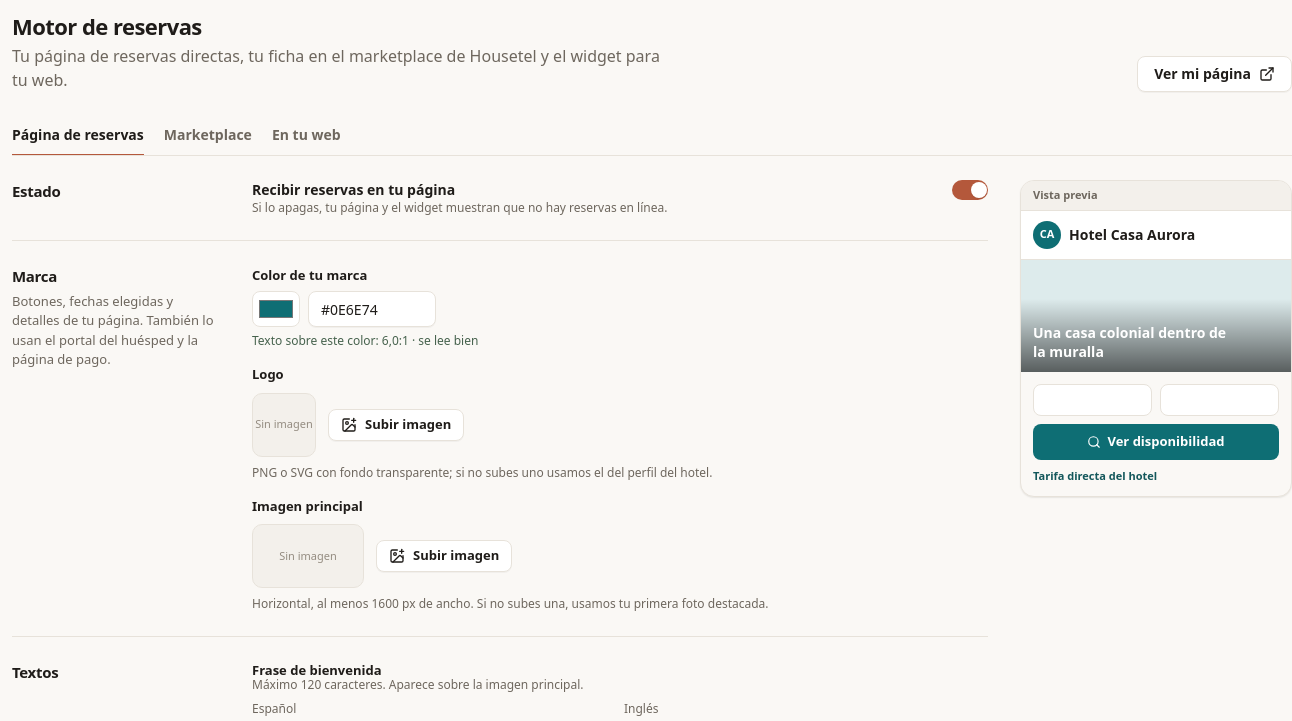
Test case: BookingEngineSettingsPage › warns when the brand color is hard to read
Replace the text in the field named "Código del color" with "#F2C94C": x=372, y=309 [308, 291, 436, 327]
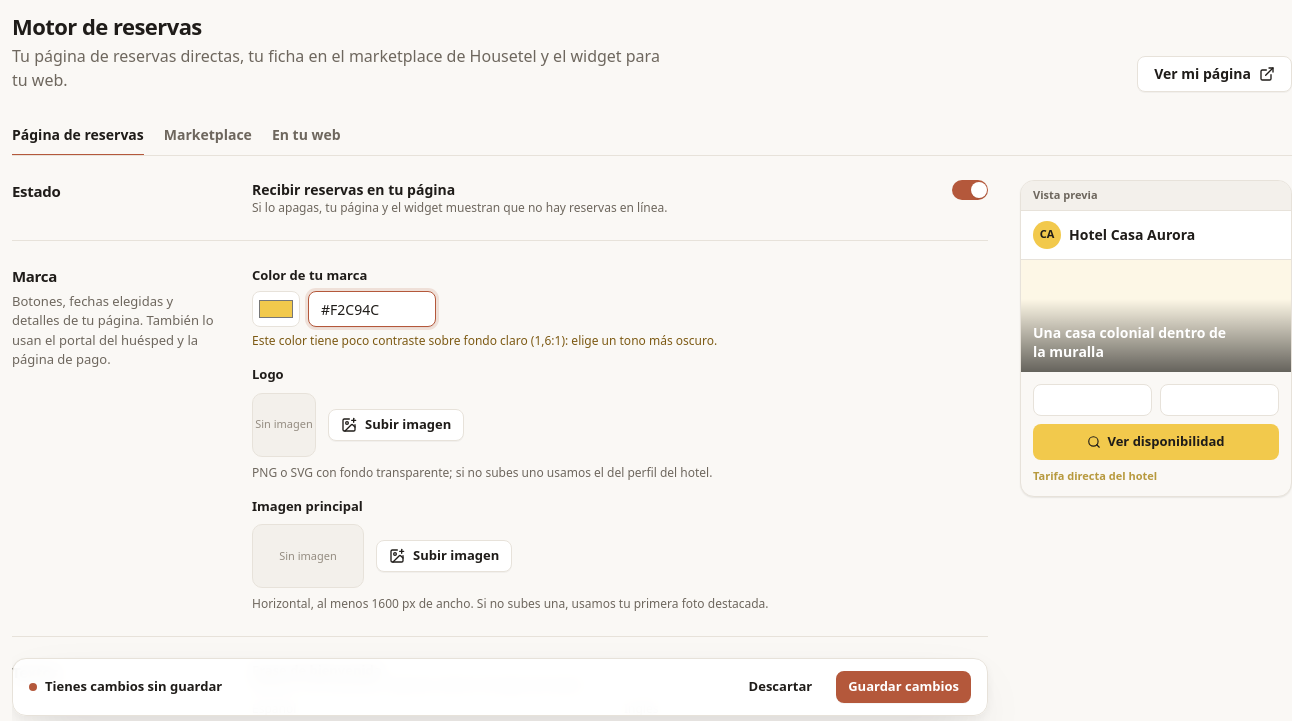
Check: the text "poco contraste" is shown, box [252, 332, 717, 349]
